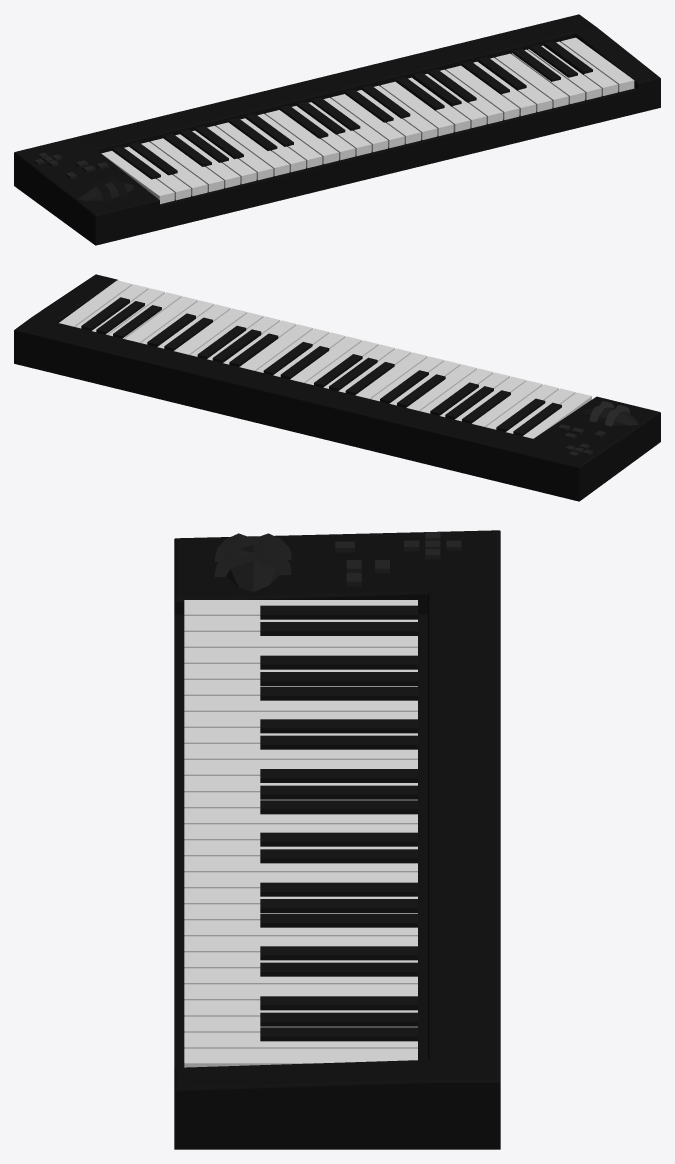
The model's file is Midi Keyboard06.fbx.
3 renders of one model, top to bottom at view 1: azimuth 30°, elevation 25°; view 2: azimuth 150°, elevation 25°; view 3: azimuth 270°, elevation 25°, orthographic. The views are drawn at different scales.
Parts seen in each view (by area): view 1: 49keysmidi.007; view 2: 49keysmidi.007; view 3: 49keysmidi.007.
Boxes of the visible parts, <box> form: 49keysmidi.007: <box>14,14,660,245</box>; 49keysmidi.007: <box>14,274,660,501</box>; 49keysmidi.007: <box>174,530,500,1149</box>.
Size of the model in its own units: 80 by 5.73 by 20.
